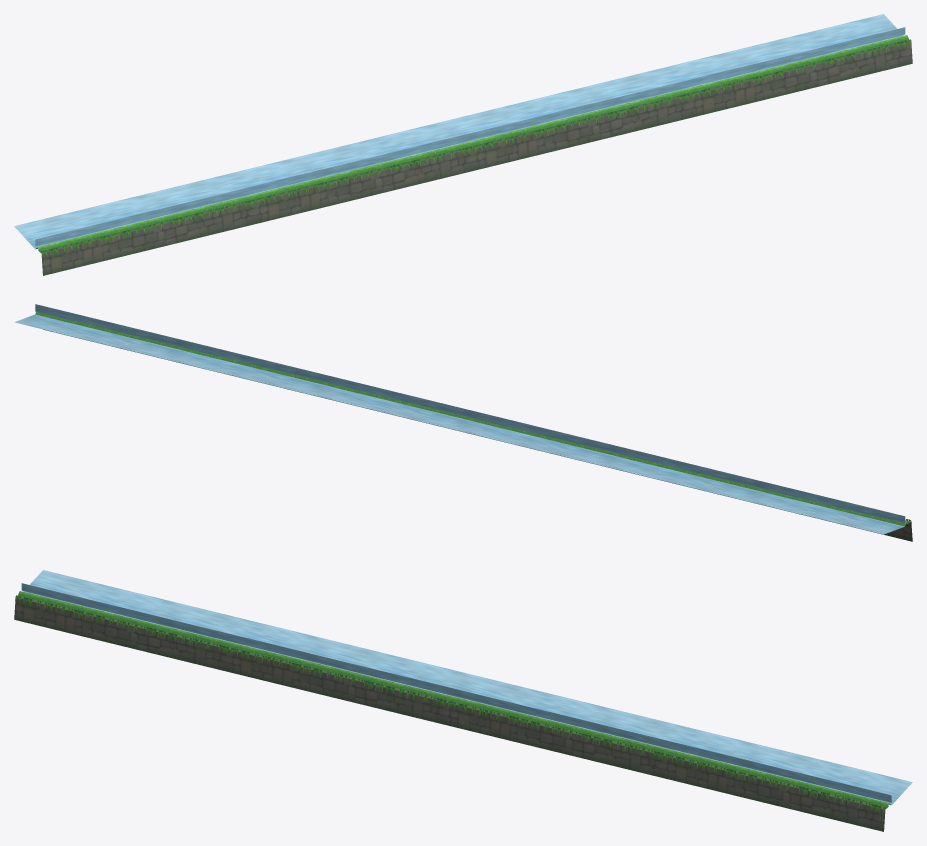
File: terrace_straight_flooded_far48.glb
3 views of the same model, one above another, from view 1: azimuth 30°, elevation 25°; view 2: azimuth 150°, elevation 25°; view 3: azimuth 330°, elevation 25° (orthographic).
Visible parts, largest first — view 1: terrace_straight_flooded_far48_water, terrace_straight_flooded_far48_wall, terrace_straight_flooded_far48_dike, terrace_straight_flooded_far48_cards; view 2: terrace_straight_flooded_far48_water, terrace_straight_flooded_far48_dike, terrace_straight_flooded_far48_wall; view 3: terrace_straight_flooded_far48_water, terrace_straight_flooded_far48_wall, terrace_straight_flooded_far48_dike, terrace_straight_flooded_far48_cards.
Part boxes in pixels (box(x1,y1,x2,y2)): terrace_straight_flooded_far48_water: box(14, 14, 905, 249); terrace_straight_flooded_far48_wall: box(38, 39, 912, 275); terrace_straight_flooded_far48_dike: box(36, 35, 908, 251); terrace_straight_flooded_far48_cards: box(41, 39, 911, 256); terrace_straight_flooded_far48_water: box(14, 304, 905, 534); terrace_straight_flooded_far48_dike: box(35, 312, 908, 527); terrace_straight_flooded_far48_wall: box(43, 329, 912, 541); terrace_straight_flooded_far48_water: box(21, 570, 912, 805); terrace_straight_flooded_far48_wall: box(14, 595, 888, 831); terrace_straight_flooded_far48_dike: box(18, 591, 890, 807); terrace_straight_flooded_far48_cards: box(15, 595, 885, 814).
Bounding box in the file's own units: 48 × 1.64 × 2.79.
Materials: 3 (3 with a texture image).
